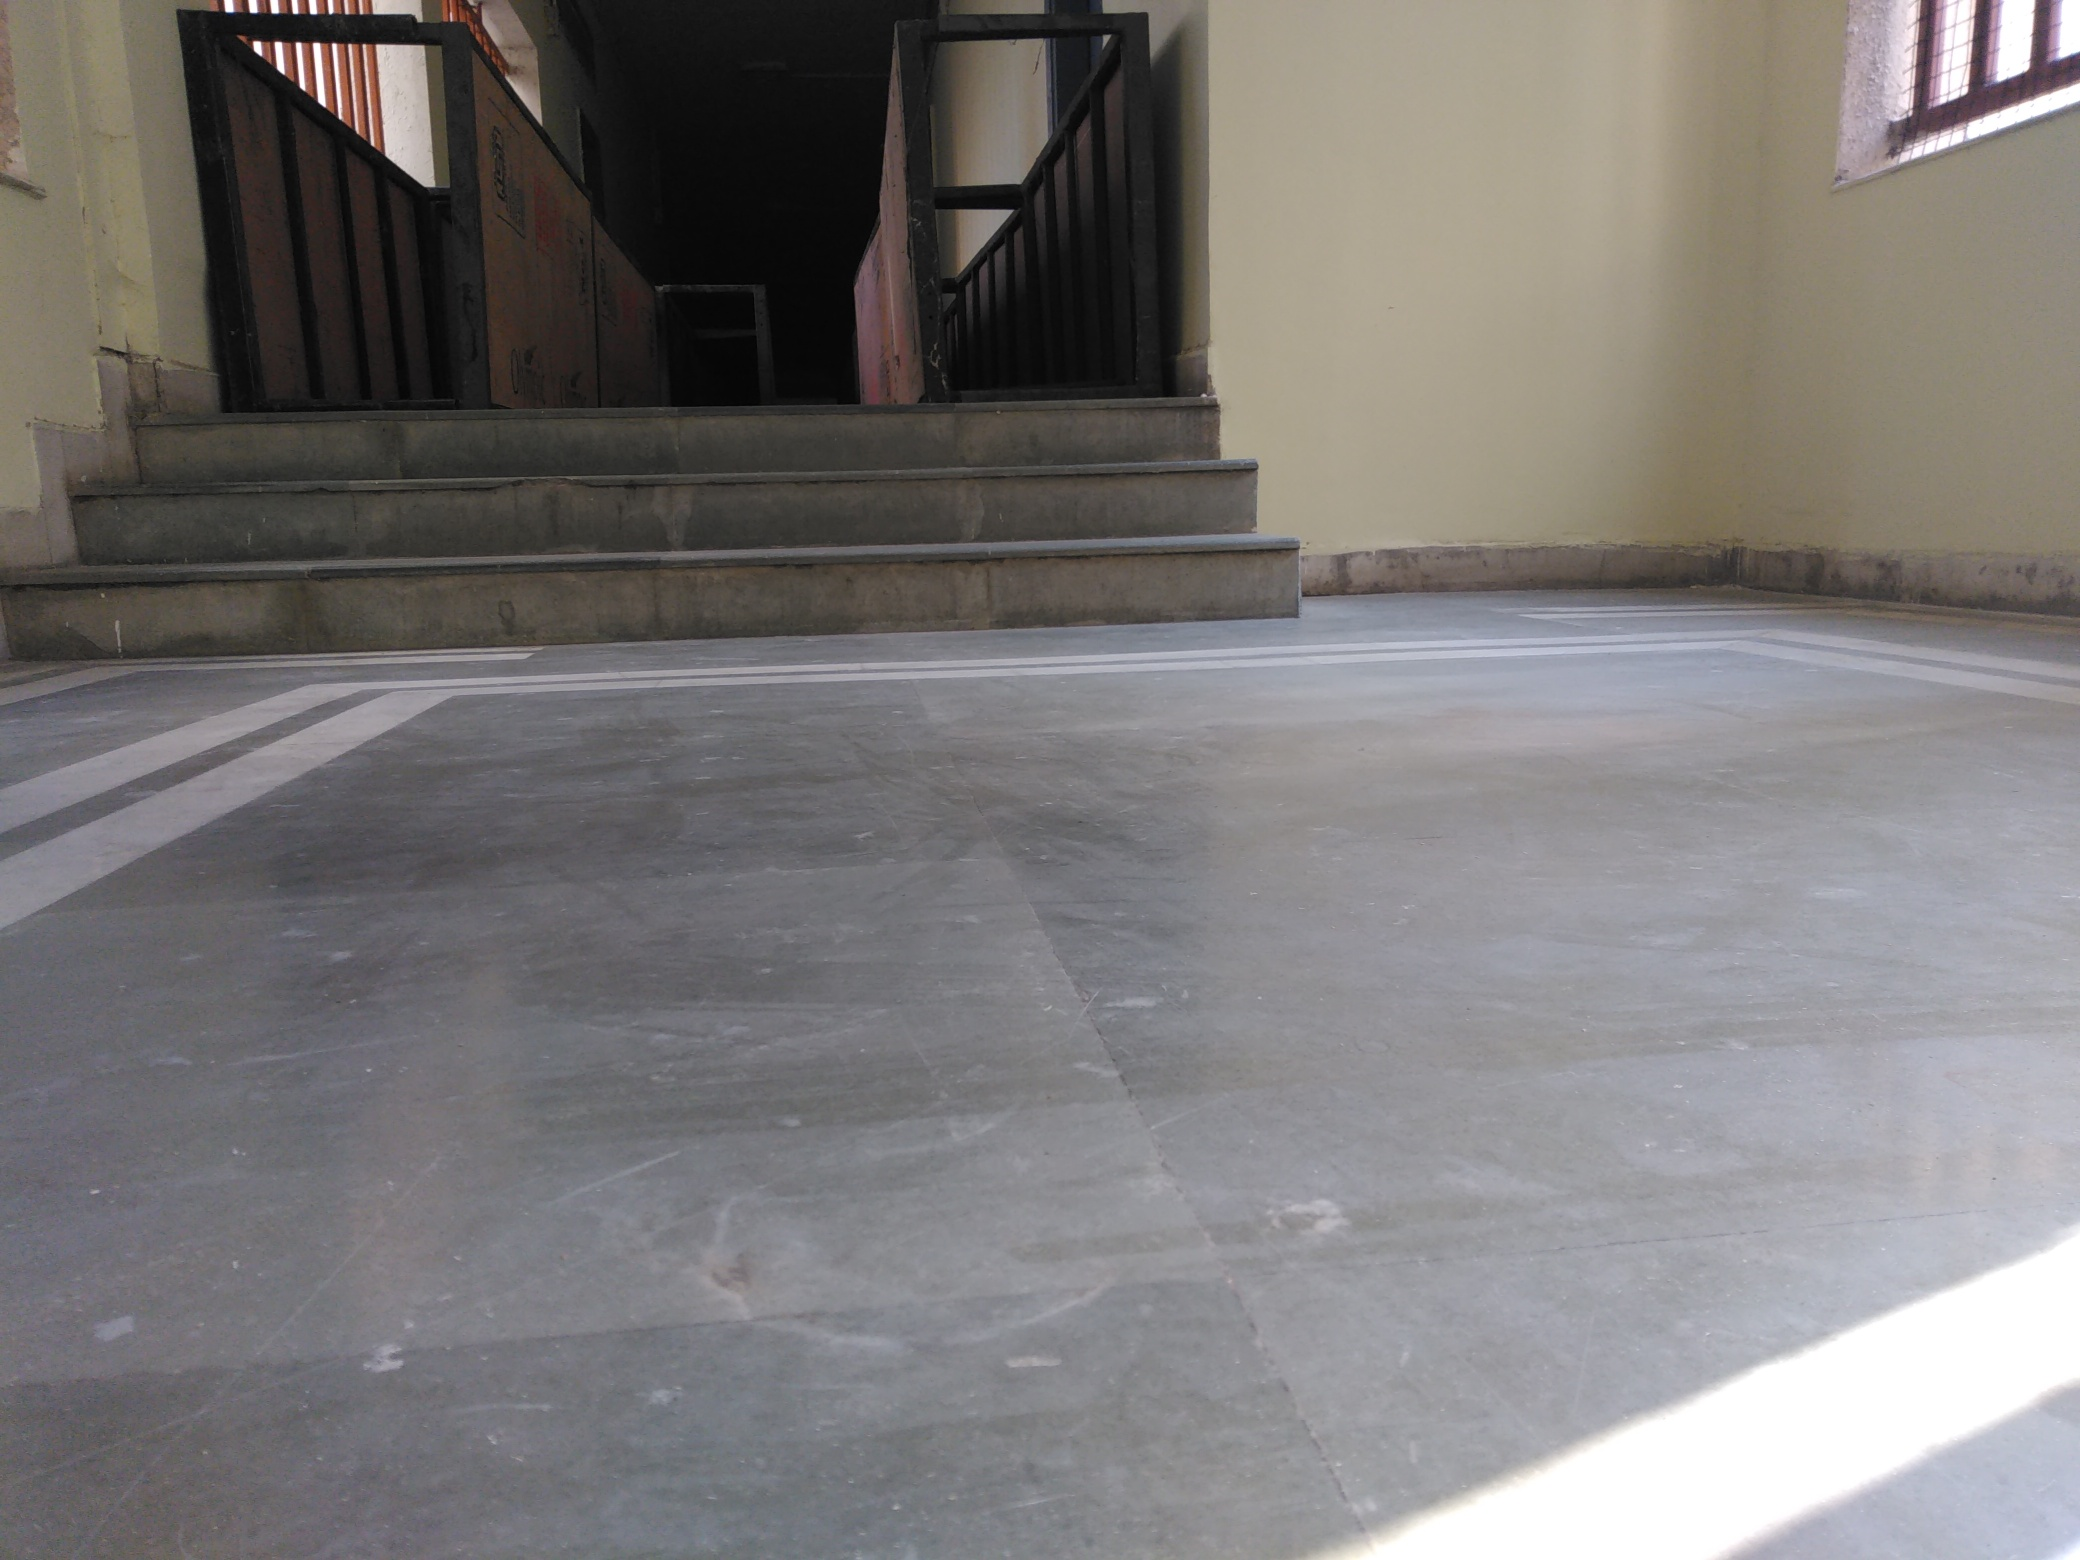stairs_up: (15, 415, 1286, 628)
